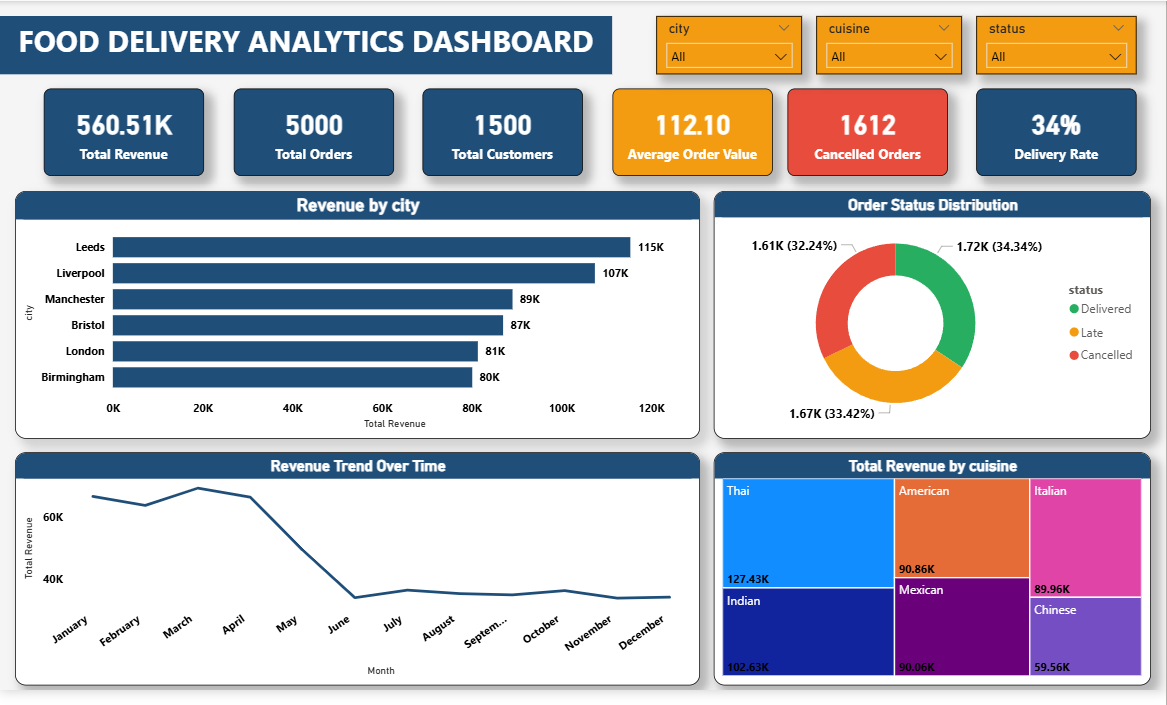

This screenshot's page, from the dashboard's own definition file:
{"tool":"powerbi","page":{"name":"Food Delivery Analytics Dashboard","canvas":[1280,756],"ordinal":0},"visuals":[{"type":"card","fields":{"Values":["customers_medium.Total Customers"]},"box":[464,96,176,96],"z":0},{"type":"textbox","box":[0,16,672,64],"z":1000},{"type":"card","fields":{"Values":["order_items (2).Total Revenue"]},"box":[48,96,176,96],"z":2000},{"type":"card","fields":{"Values":["orders_medium.Total orders"]},"box":[256,96,176,96],"z":3000},{"type":"card","fields":{"Values":["order_items (2).Average Order Value"]},"box":[672,96,176,96],"z":4000},{"type":"card","fields":{"Values":["orders_medium.Cancelled Orders"]},"box":[864,96,176,96],"z":5000},{"type":"slicer","fields":{"Values":["restaurants.city"]},"box":[720,16,160,64],"z":6000},{"type":"slicer","fields":{"Values":["restaurants.cuisine"]},"box":[896,16,160,64],"z":7000},{"type":"slicer","fields":{"Values":["orders_medium.status"]},"box":[1072,16,176,64],"z":8000},{"type":"clusteredBarChart","title":"Revenue by city","fields":{"Category":["restaurants.city"],"Y":["order_items (2).Total Revenue"]},"box":[16,208,752,272],"z":9000},{"type":"donutChart","title":"Order Status Distribution","fields":{"Category":["orders_medium.status"],"Y":["Count(order_items (2).order_id)"]},"box":[784,208,480,272],"z":10000},{"type":"lineChart","title":"Revenue Trend Over Time","fields":{"Category":["orders_medium.order_time.Variation.Date Hierarchy.Month"],"Y":["order_items (2).Total Revenue"]},"box":[16,496,752,256],"z":11000},{"type":"treemap","fields":{"Group":["restaurants.cuisine"],"Values":["order_items (2).Total Revenue"]},"box":[784,496,480,256],"z":12000},{"type":"card","fields":{"Values":["customers_medium.Delivery Rate"]},"box":[1072,96,176,96],"z":13000}]}

Visuals, with their boxes in screenshot pixels (x1, y1, x2, y2), scaled from the page's 1280x756 canvas onto the 1167x705 screenshot:
card - customers_medium.Total Customers: bbox(423, 90, 584, 179)
textbox: bbox(0, 15, 613, 75)
card - order_items (2).Total Revenue: bbox(44, 90, 204, 179)
card - orders_medium.Total orders: bbox(233, 90, 394, 179)
card - order_items (2).Average Order Value: bbox(613, 90, 773, 179)
card - orders_medium.Cancelled Orders: bbox(788, 90, 948, 179)
slicer - restaurants.city: bbox(656, 15, 802, 75)
slicer - restaurants.cuisine: bbox(817, 15, 963, 75)
slicer - orders_medium.status: bbox(977, 15, 1138, 75)
"Revenue by city" clusteredBarChart: bbox(15, 194, 700, 448)
"Order Status Distribution" donutChart: bbox(715, 194, 1152, 448)
"Revenue Trend Over Time" lineChart: bbox(15, 463, 700, 701)
treemap - restaurants.cuisine x order_items (2).Total Revenue: bbox(715, 463, 1152, 701)
card - customers_medium.Delivery Rate: bbox(977, 90, 1138, 179)
